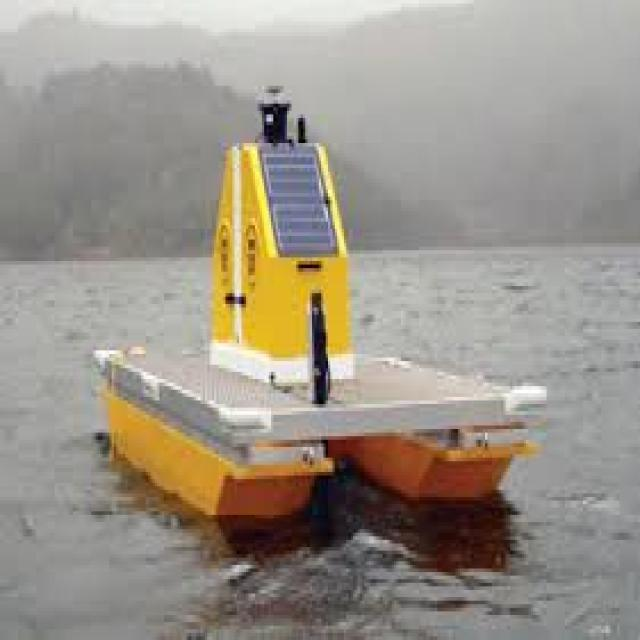marque: (75, 63, 564, 557)
